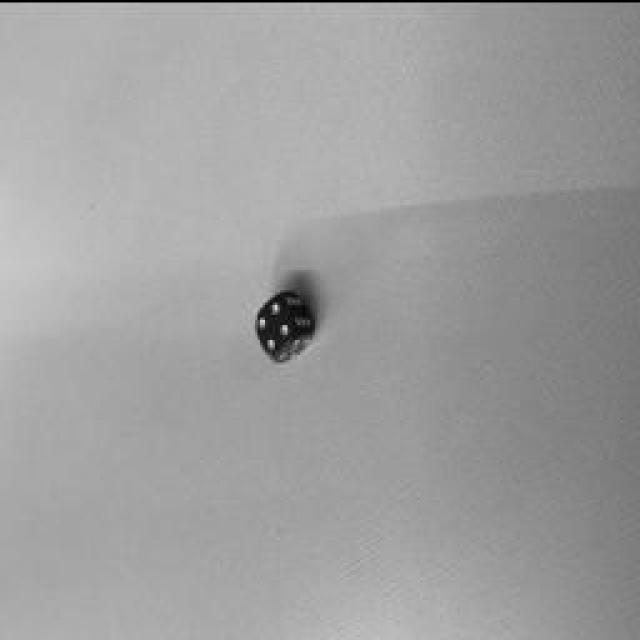dice_4: (258, 292, 292, 352)
